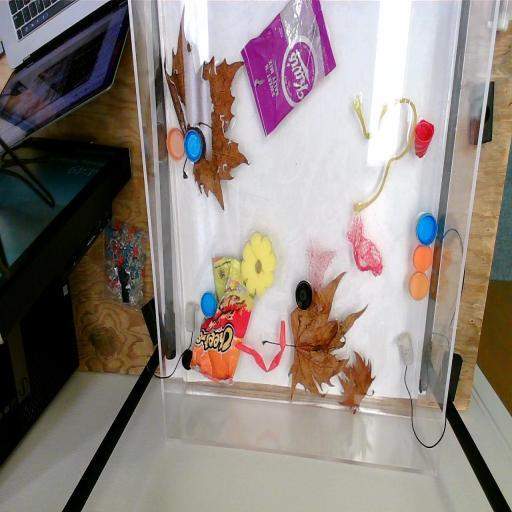Bottle Cap: (414, 210, 440, 252), (404, 267, 430, 306), (164, 124, 186, 166), (183, 124, 204, 166), (294, 277, 314, 314), (412, 242, 433, 274), (198, 288, 217, 320), (182, 347, 196, 371)
Cone Cap: (412, 114, 436, 166)
Leaf: (162, 0, 250, 210), (270, 271, 360, 396), (336, 348, 378, 416)
Netting: (343, 215, 386, 285), (304, 234, 338, 294)
Plastic Bag: (241, 0, 337, 138), (190, 252, 254, 390)
Plastic Strand: (350, 87, 418, 219), (233, 316, 290, 374)
Sponge: (239, 228, 279, 300)
